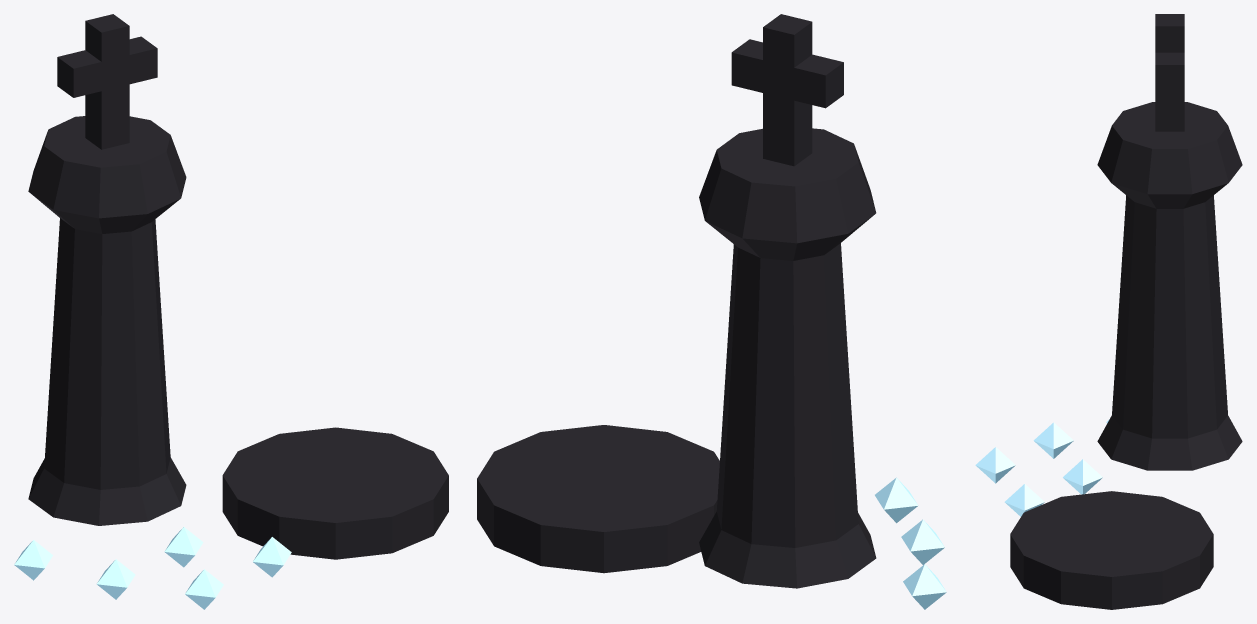
The model's file is chess_hollow_king.glb.
3 views of the same model, side by side, from view 1: azimuth 30°, elevation 25°; view 2: azimuth 150°, elevation 25°; view 3: azimuth 270°, elevation 25° (orthographic). The views are drawn at different scales.
Visible parts, largest first — view 1: king_chess_piece_black, base_chess_piece_black, diamonds_diamond; view 2: king_chess_piece_black, base_chess_piece_black, diamonds_diamond; view 3: king_chess_piece_black, base_chess_piece_black, diamonds_diamond.
Part boxes in pixels (x1,y1,x2,y2): king_chess_piece_black: (28, 14, 186, 525); base_chess_piece_black: (222, 427, 448, 559); diamonds_diamond: (14, 527, 291, 609); king_chess_piece_black: (699, 14, 876, 588); base_chess_piece_black: (477, 425, 719, 573); diamonds_diamond: (875, 477, 946, 609); king_chess_piece_black: (1097, 14, 1242, 470); base_chess_piece_black: (1010, 491, 1213, 609); diamonds_diamond: (975, 419, 1109, 516).
Bounding box in the file's own units: 0.294 × 0.352 × 0.184.
